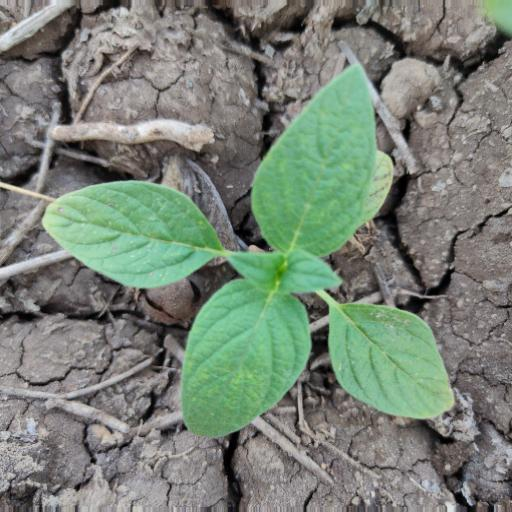crop: (39, 67, 458, 447)
